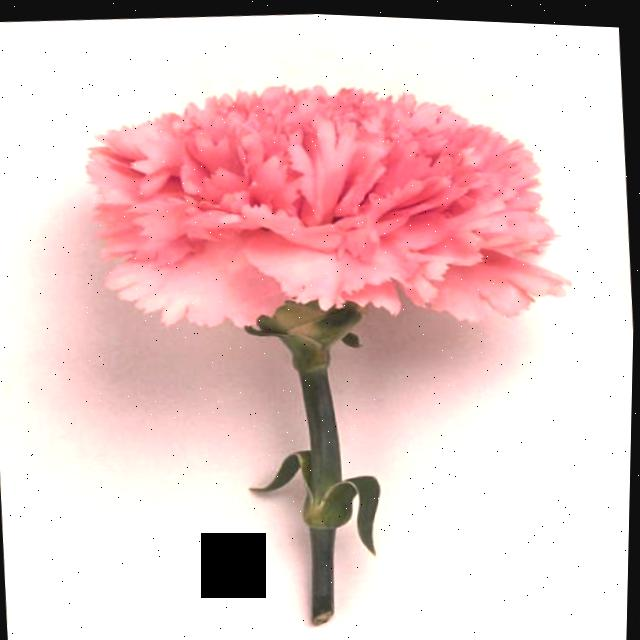carnation: (24, 39, 573, 406)
